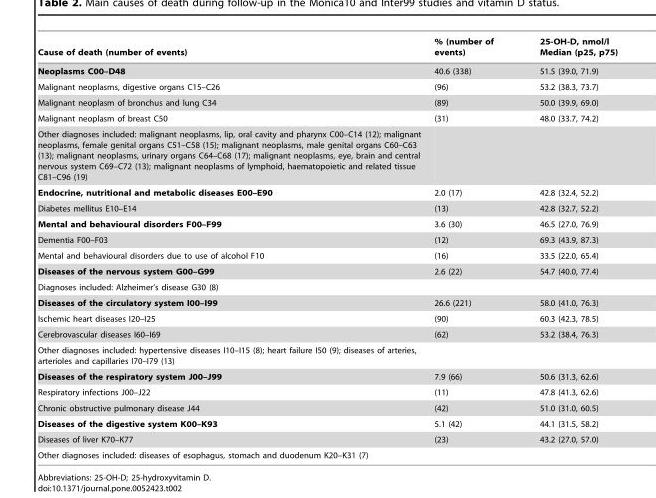table: (36, 36, 617, 459)
table column: (36, 36, 427, 459), (515, 36, 617, 459), (427, 36, 515, 459)
table column header: (36, 36, 617, 61)
table projected row header: (36, 126, 617, 184), (36, 342, 617, 368), (36, 279, 617, 294)
table row: (36, 126, 617, 184), (36, 342, 617, 368), (36, 36, 617, 61), (36, 61, 617, 78), (36, 78, 617, 94), (36, 94, 617, 110), (36, 110, 617, 126), (36, 184, 617, 200), (36, 200, 617, 216), (36, 231, 617, 247), (36, 247, 617, 263), (36, 263, 617, 279), (36, 294, 617, 310), (36, 310, 617, 326), (36, 326, 617, 342), (36, 368, 617, 384), (36, 384, 617, 400), (36, 415, 617, 431), (36, 431, 617, 447), (36, 216, 617, 231), (36, 279, 617, 294), (36, 400, 617, 415), (36, 447, 617, 459)
